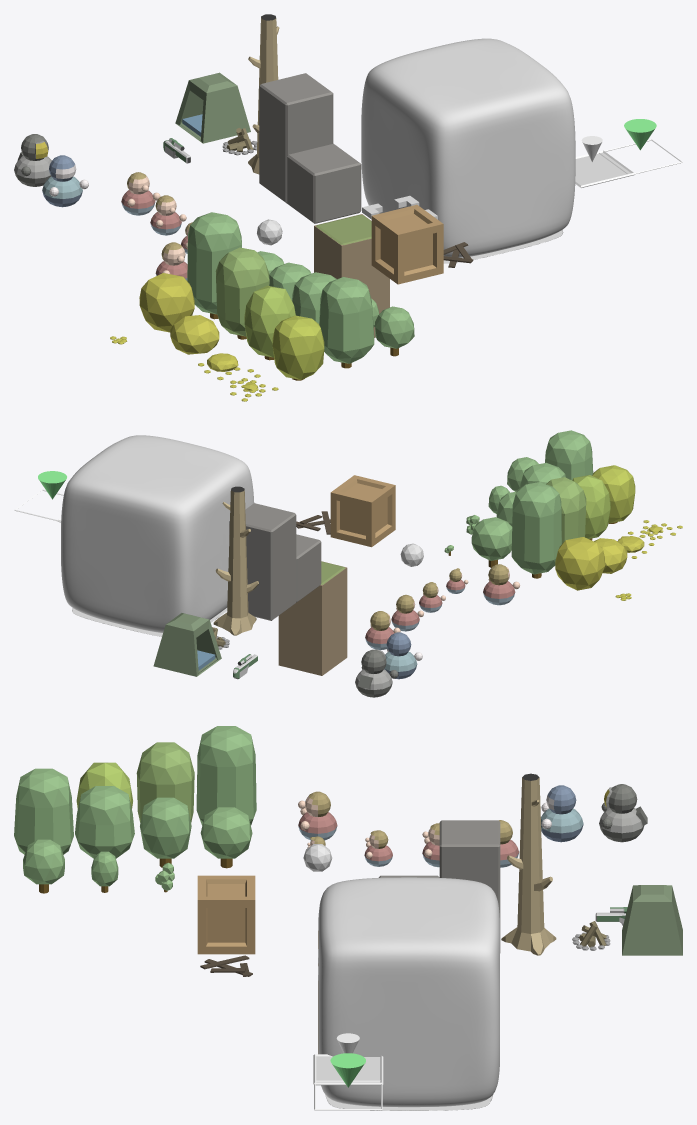
The model's file is Blocks.fbx.
3 renders of one model, top to bottom at view 1: azimuth 30°, elevation 25°; view 2: azimuth 150°, elevation 25°; view 3: azimuth 270°, elevation 25°, orthographic. The views are drawn at different scales.
Parts seen in each view (by area): view 1: TemporalZone, Wall.H2, Wall.H1, Crate#0, Bush#35, Tent, Ground, Bush#40, Bush#45, Bush#55, Bush#60, Bush#50 (+14 smaller); view 2: TemporalZone, Wall.H2, Bush#40, Crate#0, BigTree, Soil, Tent, Ground, Bush#60, Bush#35, Bush#45, Bush#55 (+17 smaller); view 3: TemporalZone, Bush#40, Crate#0, BigTree, Bush#35, Wall.H2, Tent, Bush#30, Bush#45, Bush#25, Bush#20, Character.C3#30 (+14 smaller).
Boxes of the visible parts, box(x1,y1,x2,y2) form: TemporalZone: box(361, 38, 575, 257); Wall.H2: box(259, 73, 333, 203); Wall.H1: box(287, 143, 361, 223); Crate#0: box(371, 204, 443, 284); Bush#35: box(319, 277, 374, 368); Tent: box(175, 72, 250, 143); Ground: box(314, 214, 389, 288); Bush#40: box(187, 212, 241, 319); Bush#45: box(215, 247, 269, 339); Bush#55: box(272, 315, 324, 380); Bush#60: box(139, 273, 194, 332); Bush#50: box(244, 285, 295, 360); TemporalZone: box(61, 435, 254, 632); Wall.H2: box(229, 503, 296, 620); Bush#40: box(511, 482, 561, 578); Crate#0: box(330, 475, 395, 547); BigTree: box(213, 486, 258, 635); Soil: box(278, 612, 347, 675); Tent: box(153, 613, 221, 676); Ground: box(278, 561, 347, 630); Bush#60: box(555, 537, 604, 590); Bush#35: box(545, 430, 593, 480); Bush#45: box(546, 477, 586, 543); Bush#55: box(592, 465, 635, 523); TemporalZone: box(318, 877, 499, 1107); Bush#40: box(196, 726, 256, 825); Crate#0: box(197, 875, 255, 954); BigTree: box(501, 773, 556, 955); Bush#35: box(14, 768, 73, 854); Wall.H2: box(439, 820, 500, 952); Tent: box(622, 885, 682, 955); Bush#30: box(75, 786, 134, 858); Bush#45: box(136, 742, 194, 822); Bush#25: box(140, 797, 191, 867); Bush#20: box(200, 807, 252, 868); Character.C3#30: box(599, 784, 647, 842).
Bounding box in the file's own units: 1272 × 500 × 1099.
